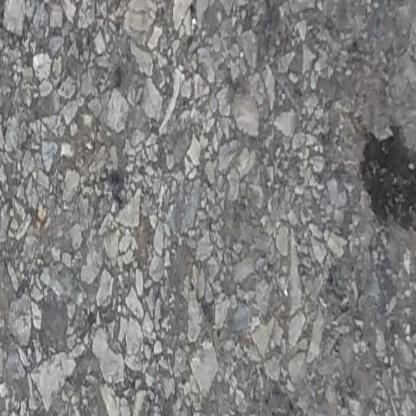Cracks: (355, 92, 416, 237)
